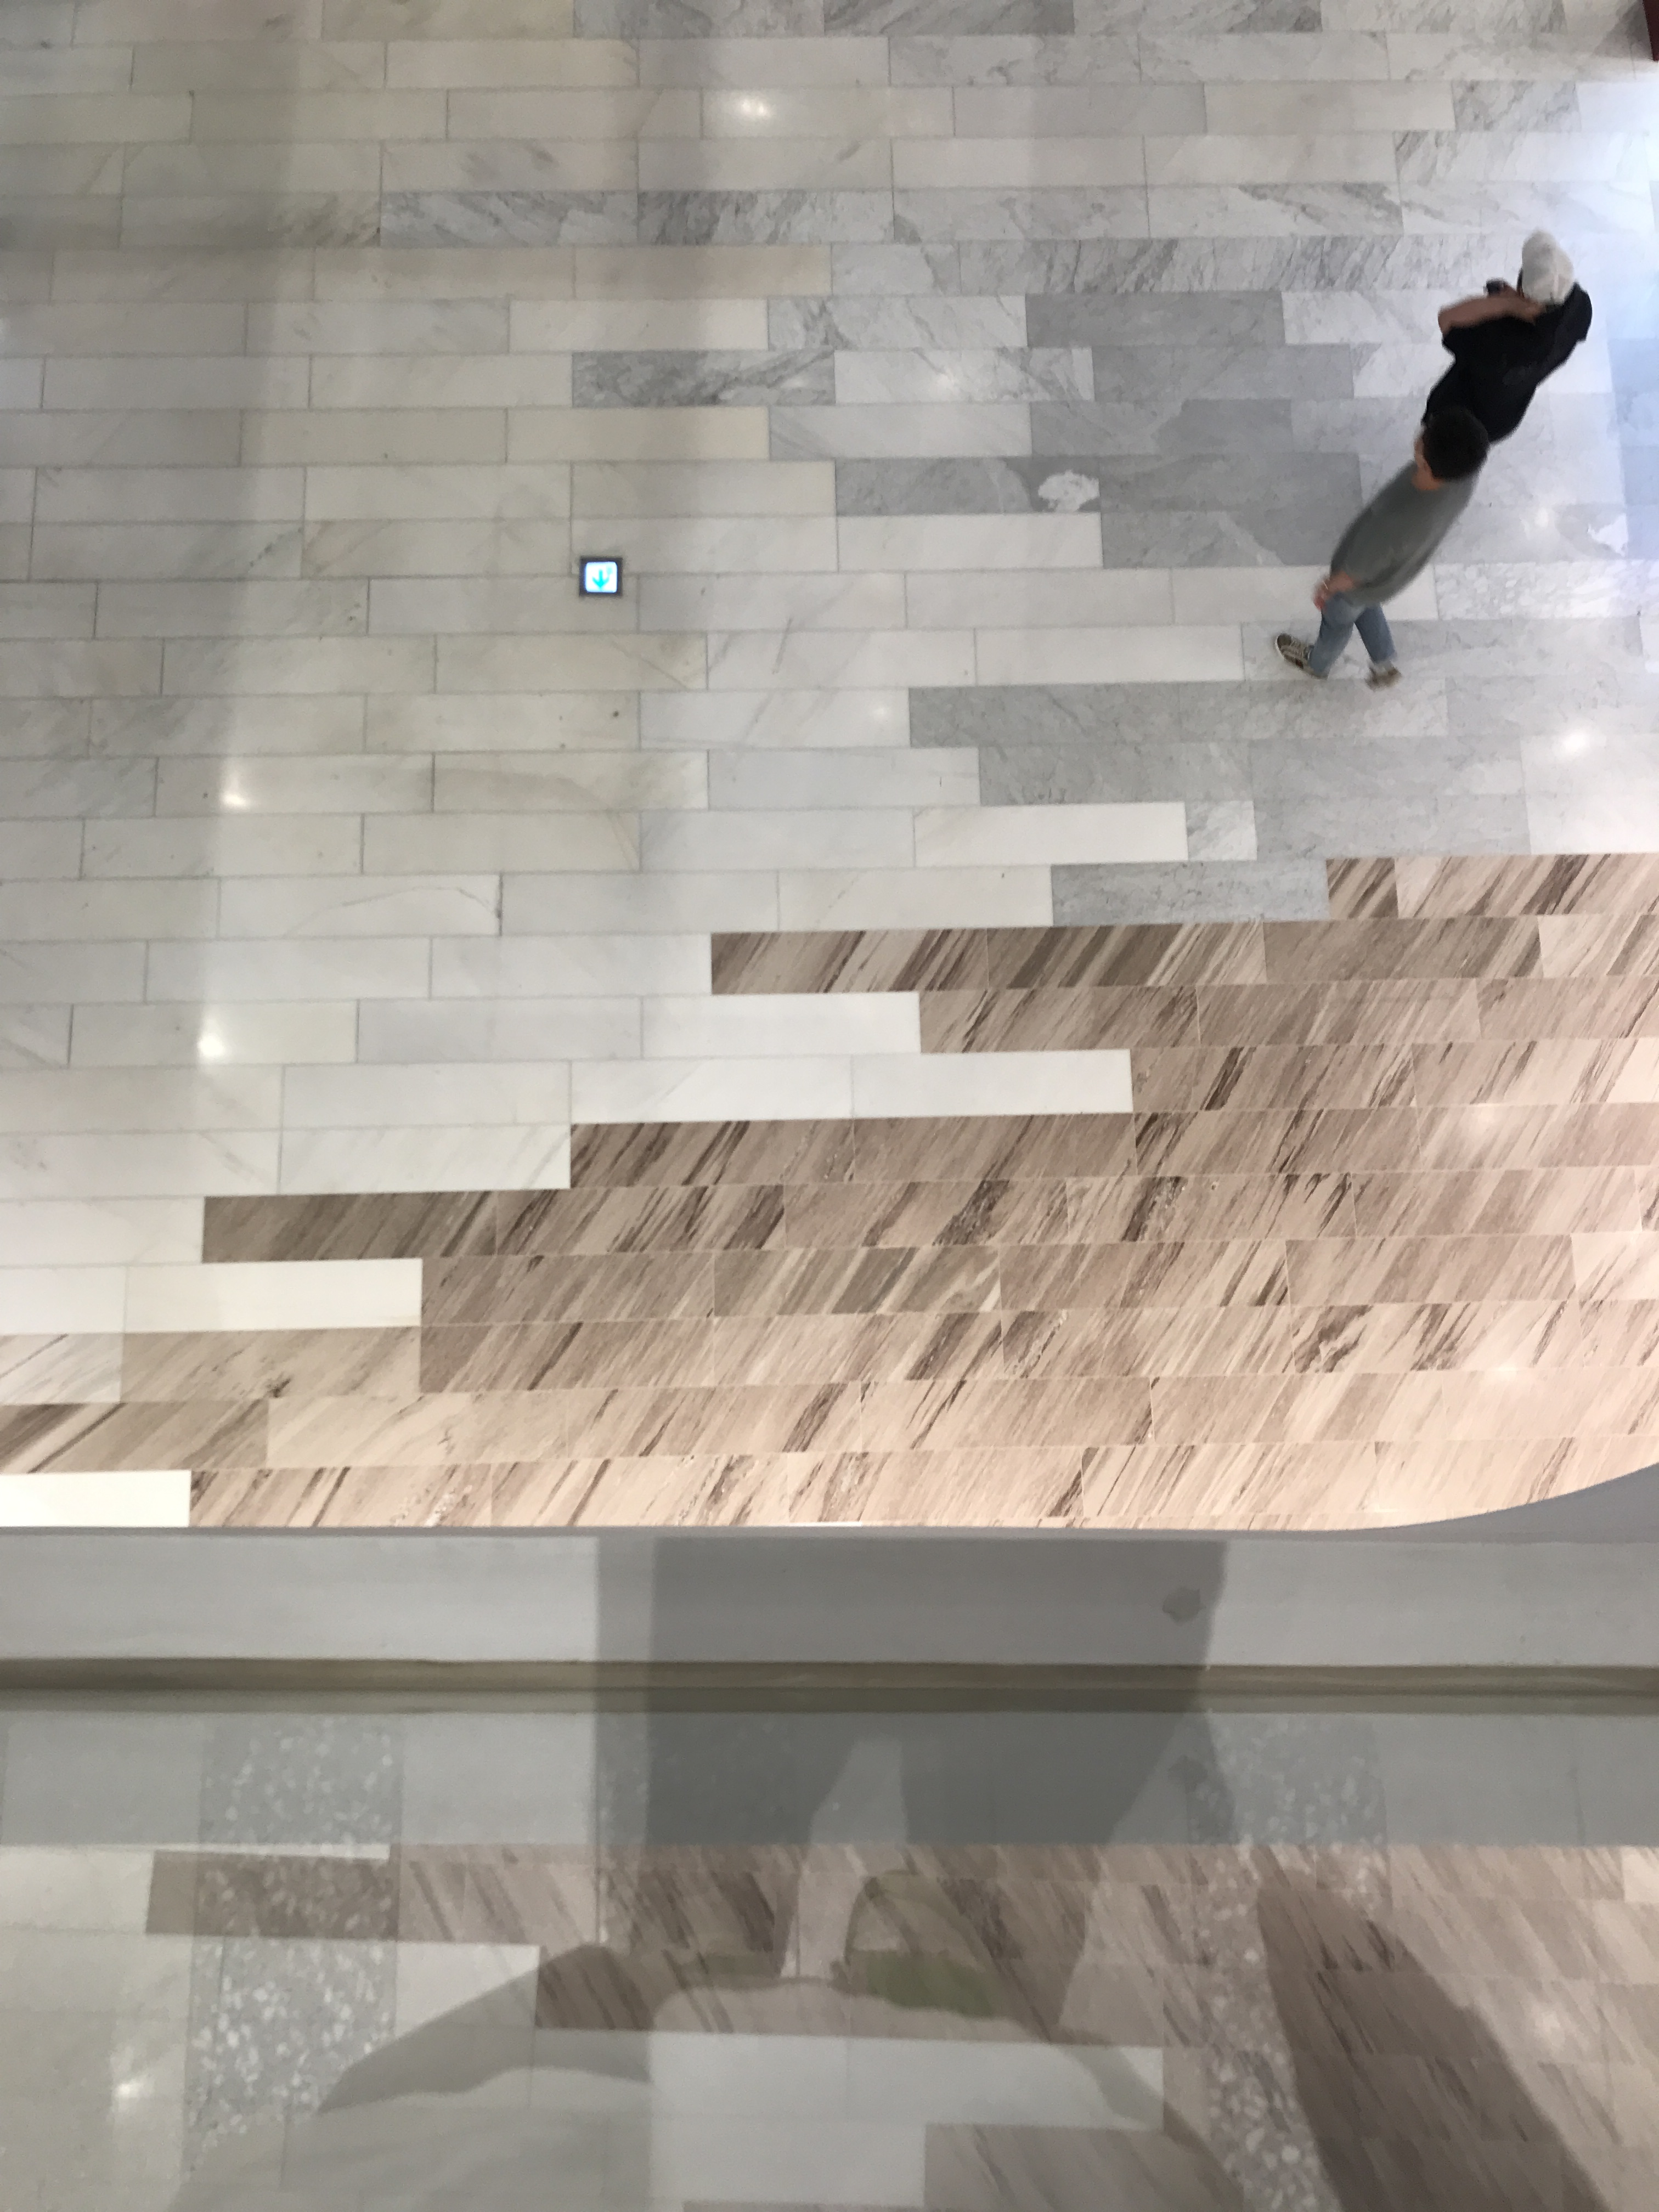person: (1271, 398, 1491, 690), (1417, 227, 1598, 459)
